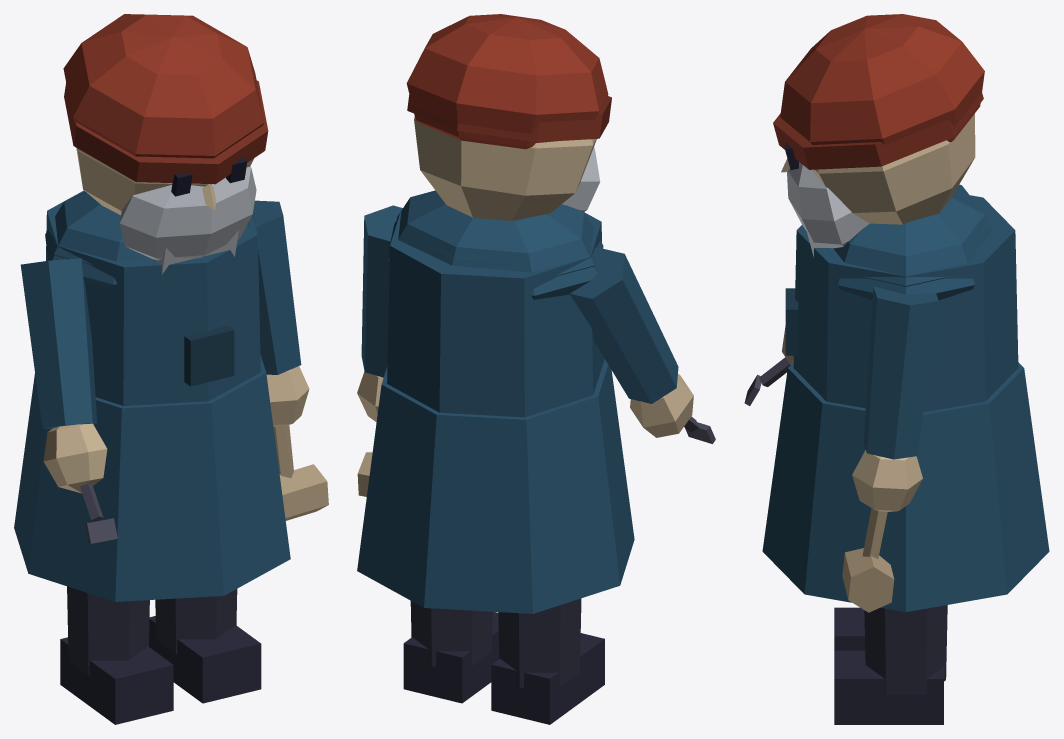
File: yard_smock_mallet.glb
3 renders of one model, left to right at view 1: azimuth 30°, elevation 25°; view 2: azimuth 150°, elevation 25°; view 3: azimuth 270°, elevation 25°, orthographic.
Visible parts, largest first — view 1: Torso, Head, ArmR, LegR, ArmL, LegL; view 2: Torso, Head, ArmR, LegR, LegL, ArmL; view 3: Torso, Head, ArmL, LegL, LegR, ArmR.
Part boxes in pixels (x1,y1,x2,y2): Torso: (14,190,290,601); Head: (63,14,268,274); ArmR: (20,258,117,544); LegR: (60,586,173,724); ArmL: (253,200,328,520); LegL: (149,589,261,703); Torso: (357,190,634,613); Head: (406,14,611,220); ArmR: (570,247,715,443); LegR: (491,598,604,724); LegL: (403,601,499,703); ArmL: (357,205,402,496); Torso: (762,184,1049,612); Head: (773,14,984,257); ArmL: (842,286,938,612); LegL: (834,605,947,724); LegR: (834,607,865,650); ArmR: (744,326,793,405).
Size of the model in its own units: 0.791 by 1.7 by 0.7082.
